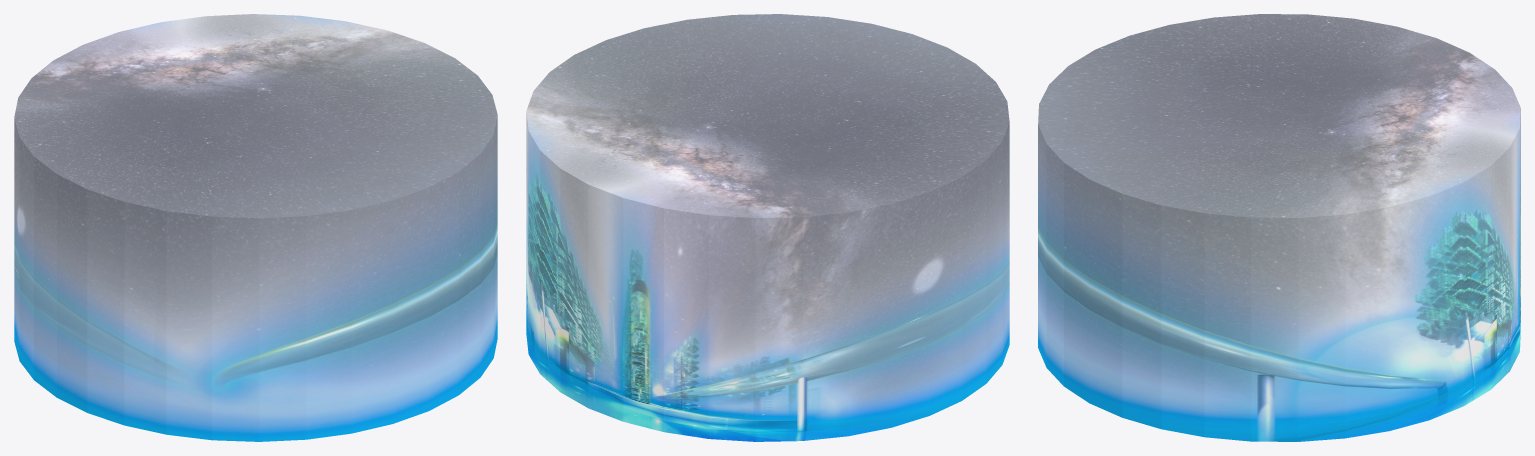
File: sloth.glb
The picture shows the model from 3 angles, left to right: view 1: azimuth 30°, elevation 25°; view 2: azimuth 150°, elevation 25°; view 3: azimuth 270°, elevation 25°; orthographic projection.
Visible parts, largest first — view 1: environment; view 2: environment; view 3: environment.
Part boxes in pixels (bbox=[...]): environment: bbox=[14, 14, 497, 441]; environment: bbox=[526, 14, 1009, 441]; environment: bbox=[1038, 14, 1520, 441].
Size of the model in its own units: 69.72 by 35.7 by 69.72.
Materials: 2 (2 with a texture image).
